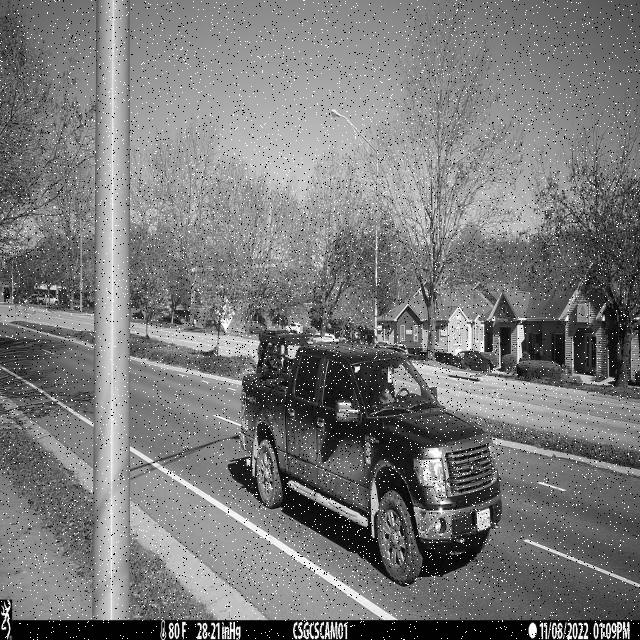Pickup: (239, 341, 503, 587)
